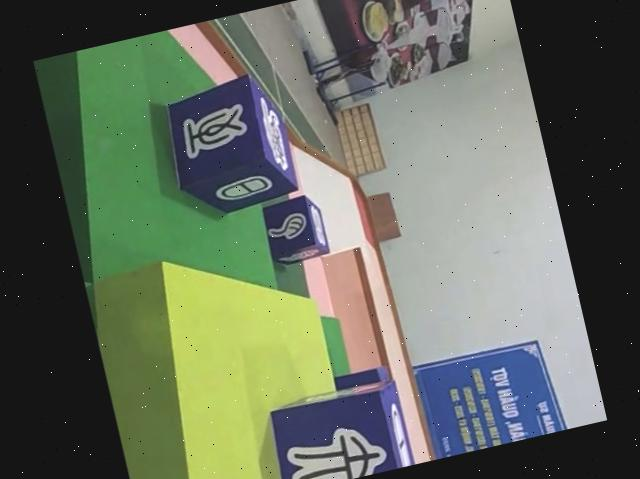R2 Fake Blue: (154, 70, 299, 223), (256, 373, 412, 479), (257, 189, 331, 268)
